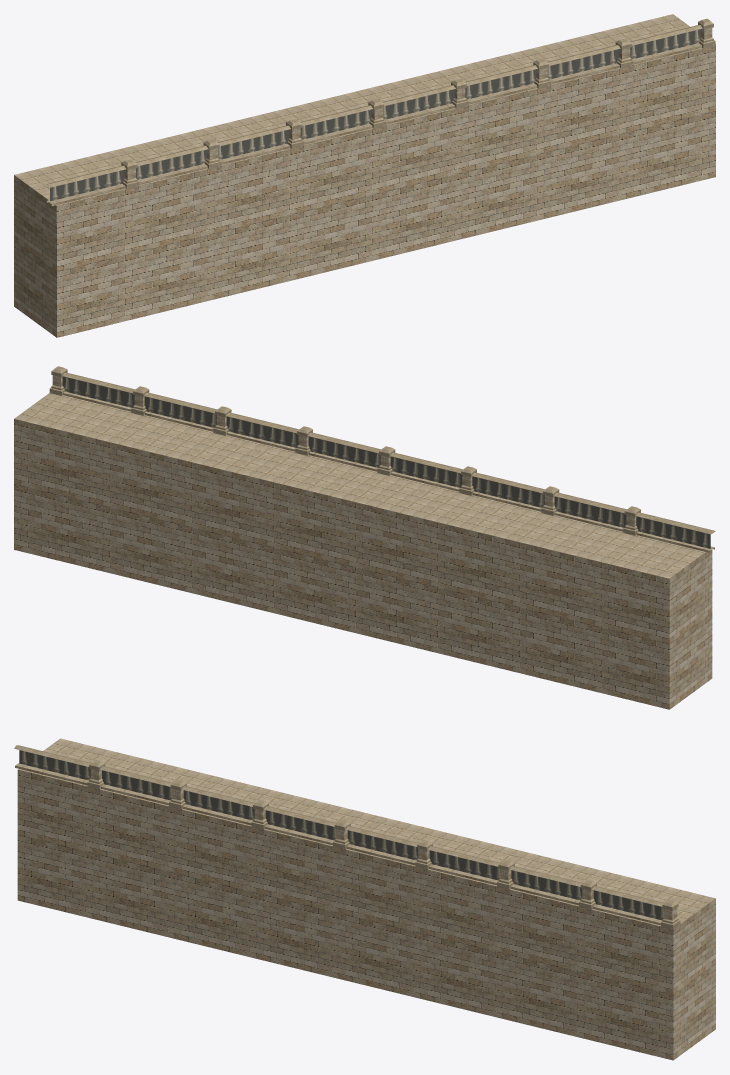
File: thm_nboo_thed_imprv_seawall_straight_s01_4seg_l0.fbx
The picture shows the model from 3 angles, top to bottom: view 1: azimuth 30°, elevation 25°; view 2: azimuth 150°, elevation 25°; view 3: azimuth 330°, elevation 25°; orthographic projection.
Visible parts, largest first — view 1: mesh_node; view 2: mesh_node; view 3: mesh_node.
Part boxes in pixels (x1=…): mesh_node: x1=14, y1=14, x2=715, y2=337; mesh_node: x1=14, y1=366, x2=715, y2=709; mesh_node: x1=14, y1=738, x2=715, y2=1060.
Bounding box in the file's own units: 32.23 × 7.2 × 3.6.
